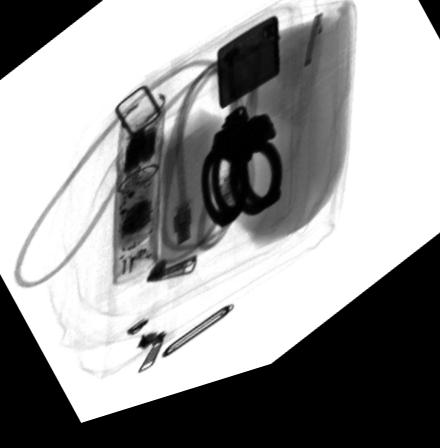Baton: (114, 102, 165, 294)
HandCuffs: (199, 119, 282, 245)
Lighter: (216, 31, 279, 124)
